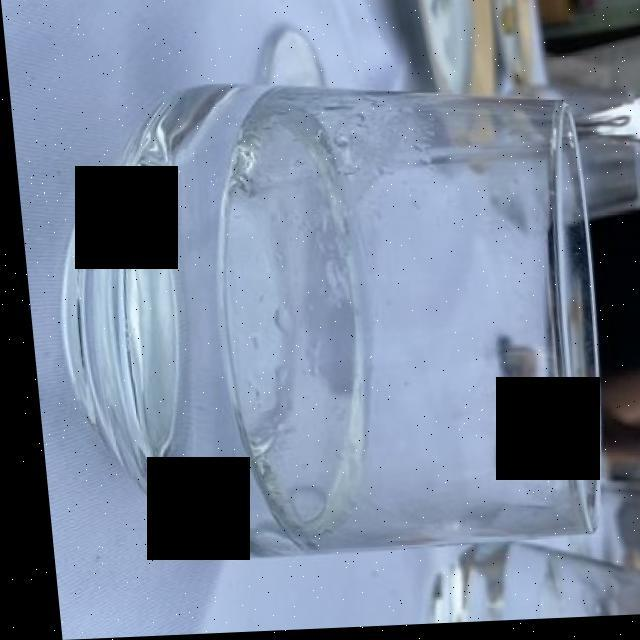water: (71, 78, 368, 534)
